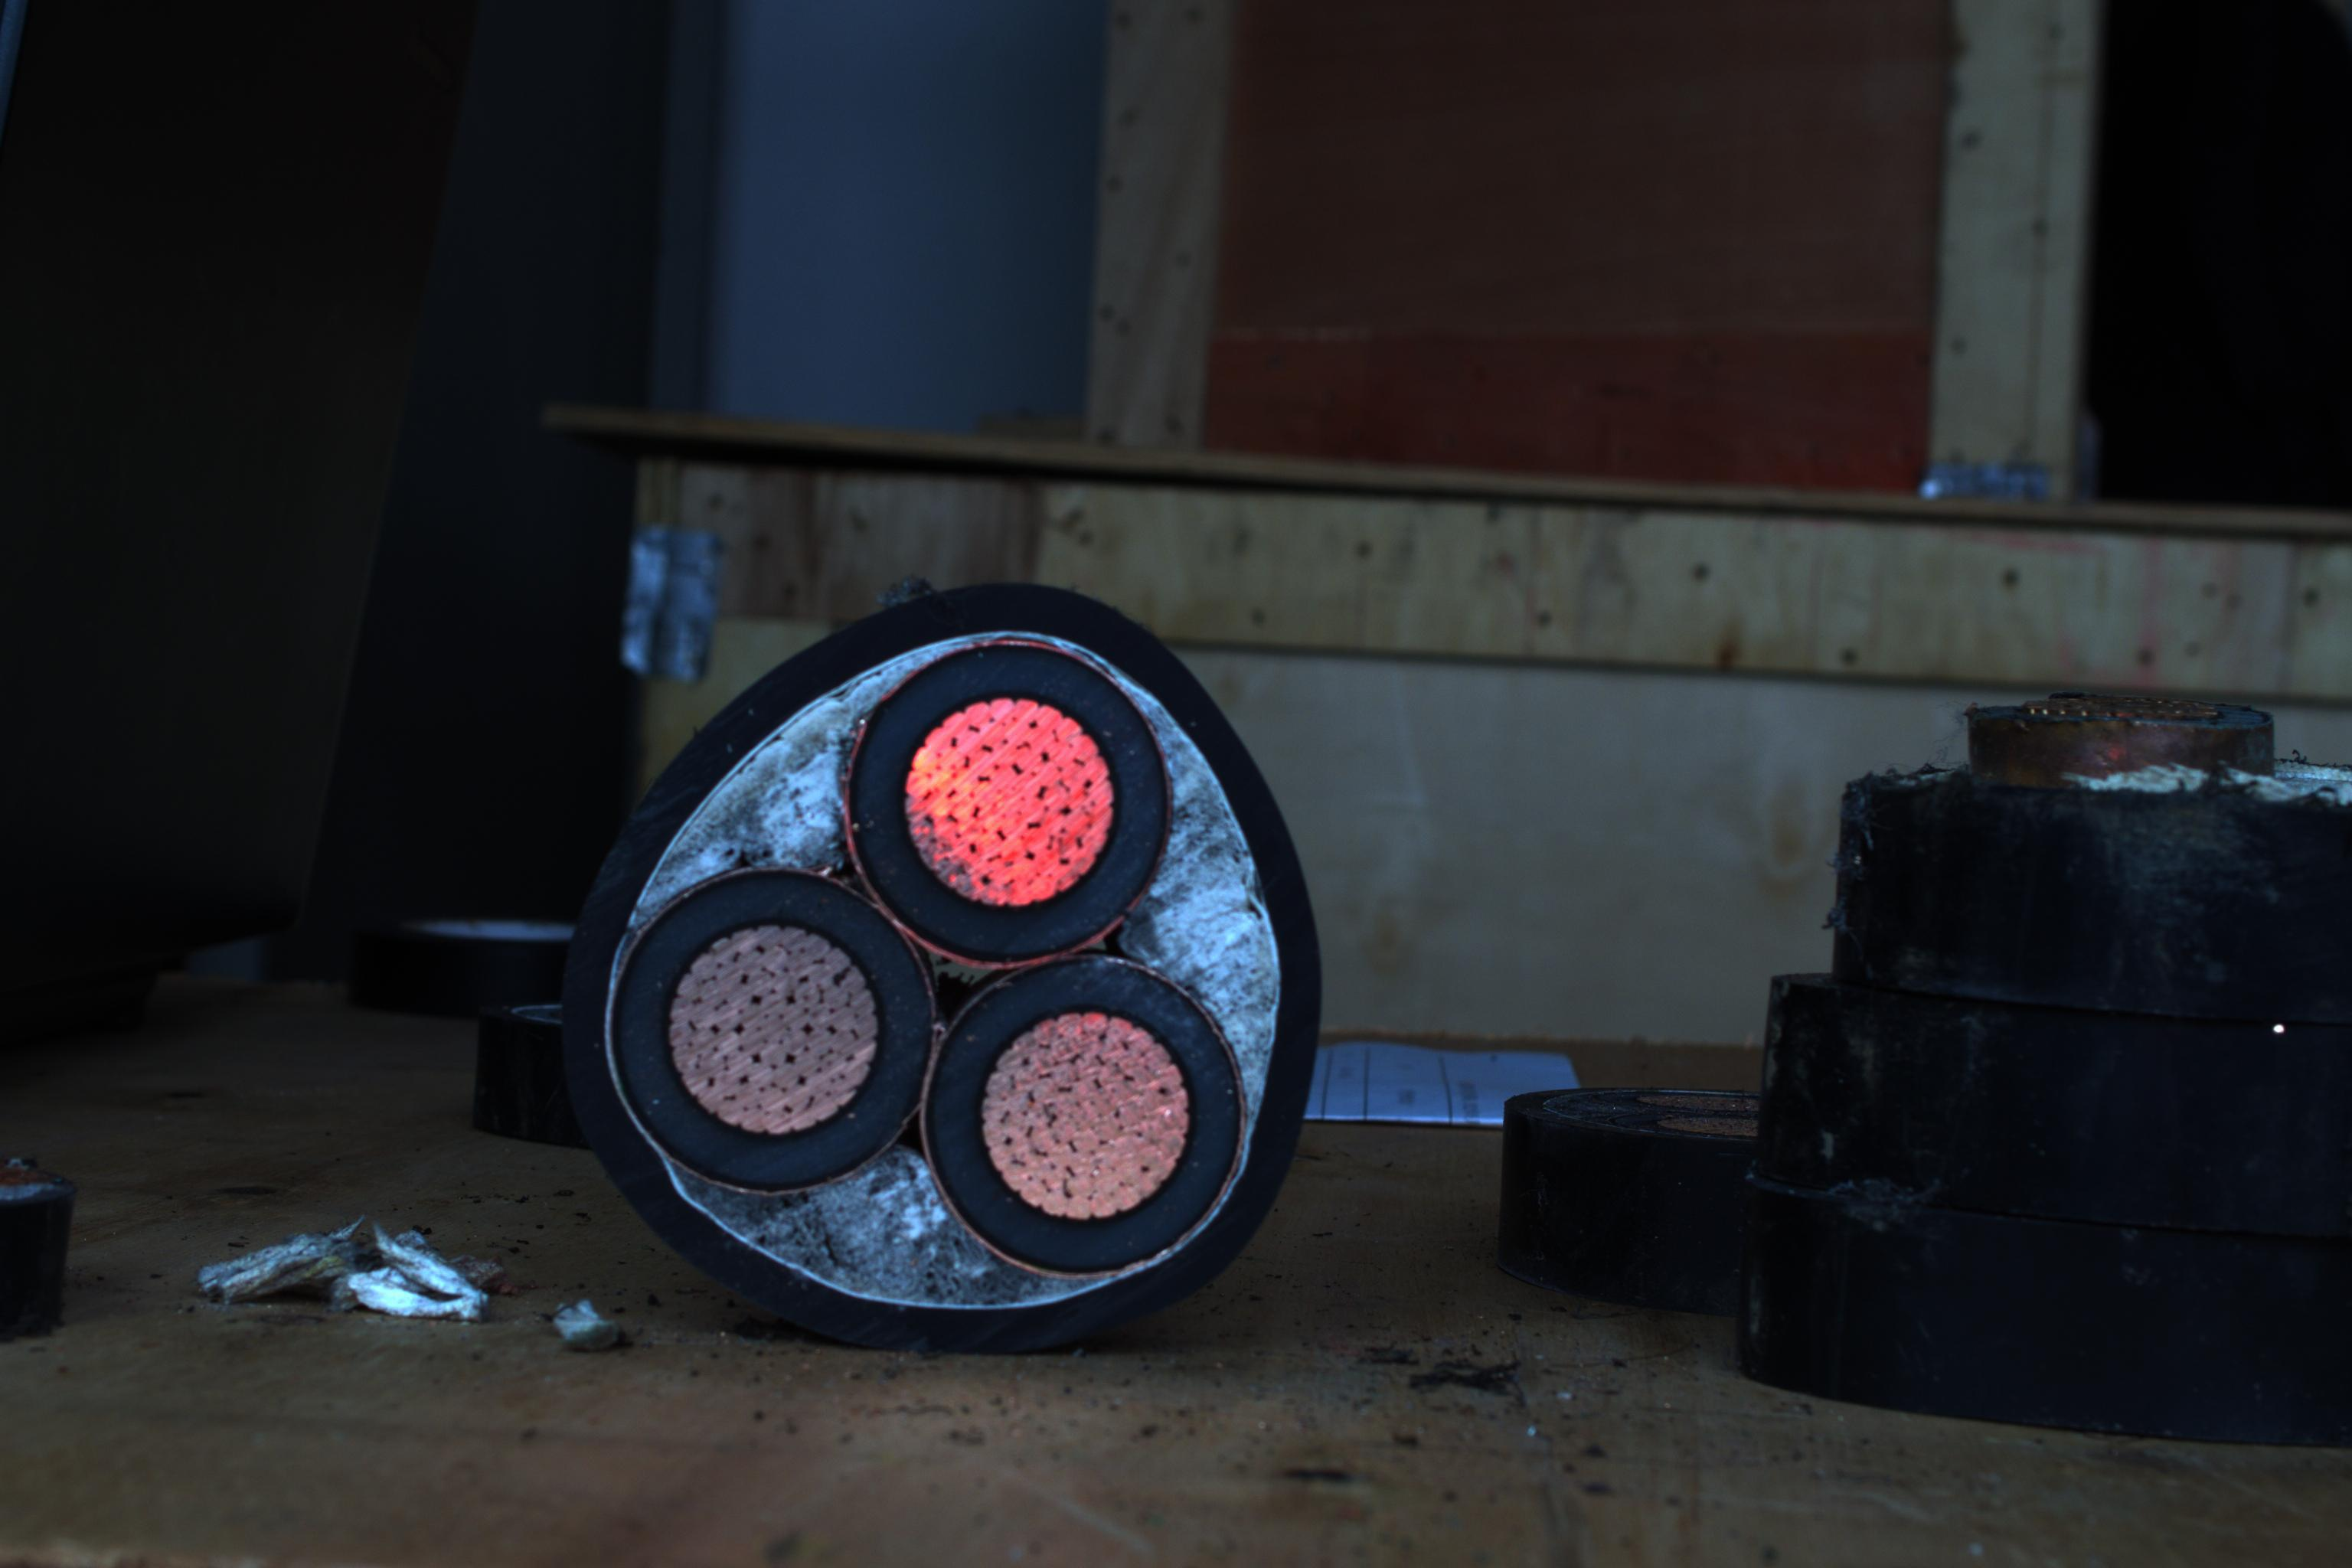ZA_YJV_8.7_10kV_3x400: (563, 611, 1307, 1337)
